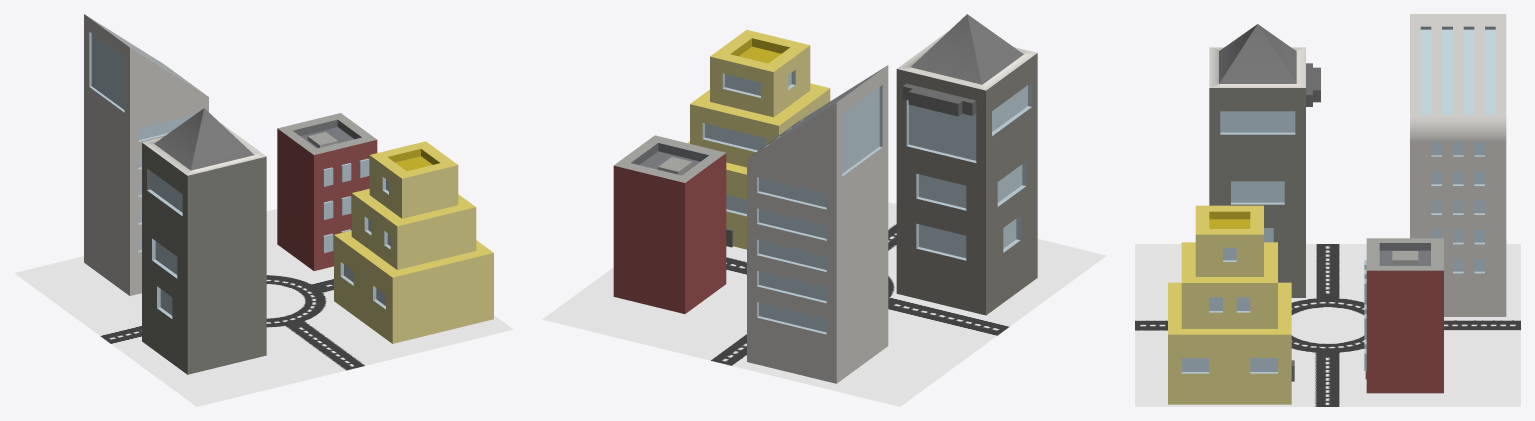
Rendered from level_3_buildings (1).fbx.
The picture shows the model from 3 angles, left to right: view 1: azimuth 30°, elevation 25°; view 2: azimuth 150°, elevation 25°; view 3: azimuth 270°, elevation 25°; orthographic projection. The views are drawn at different scales.
Parts seen in each view (by area): view 1: level_3_2, level_3_3, Plane, level_3_1, level_3_4; view 2: level_3_2, level_3_1, Plane, level_3_4, level_3_3; view 3: level_3_1, Plane, level_3_3, level_3_2, level_3_4.
Boxes of the visible parts, x1=… form: level_3_2: x1=142, y1=108, x2=266, y2=374; level_3_3: x1=334, y1=141, x2=493, y2=343; Plane: x1=14, y1=209, x2=513, y2=406; level_3_1: x1=84, y1=14, x2=208, y2=295; level_3_4: x1=277, y1=113, x2=377, y2=270; level_3_2: x1=896, y1=14, x2=1037, y2=315; level_3_1: x1=747, y1=65, x2=888, y2=383; Plane: x1=542, y1=202, x2=1106, y2=406; level_3_4: x1=613, y1=135, x2=726, y2=313; level_3_3: x1=687, y1=30, x2=830, y2=249; level_3_1: x1=1410, y1=14, x2=1506, y2=316; Plane: x1=1135, y1=244, x2=1520, y2=406; level_3_3: x1=1168, y1=205, x2=1294, y2=404; level_3_2: x1=1209, y1=24, x2=1320, y2=297; level_3_4: x1=1364, y1=238, x2=1443, y2=393.
Bounding box in the file's own units: 20 × 15 × 20.
12 materials, 1 textured.
